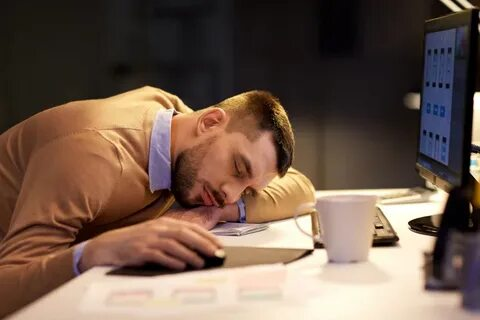sleep: (1, 86, 308, 276)
